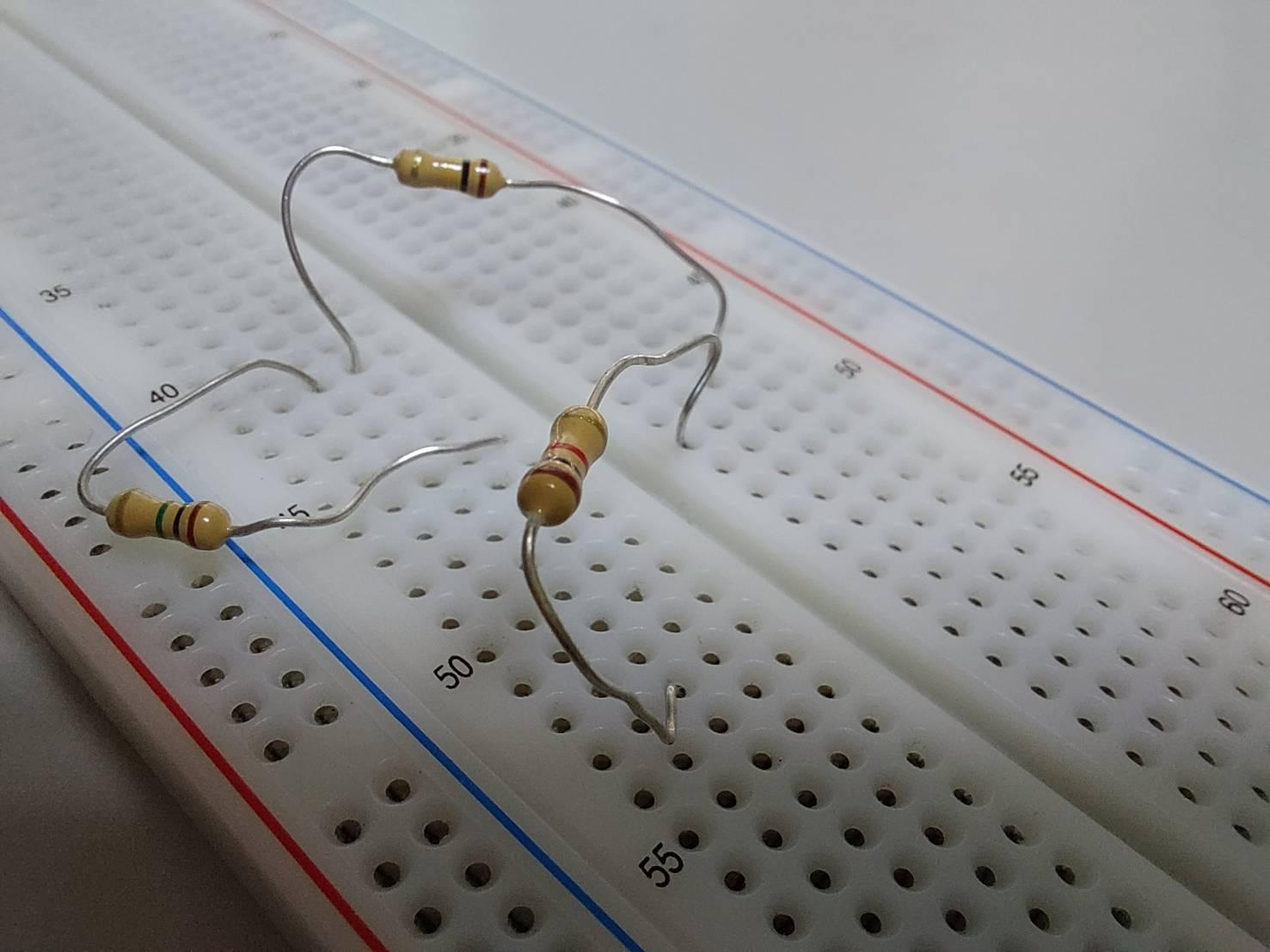resistor: (512, 400, 613, 527), (105, 487, 237, 555), (387, 143, 511, 200)
